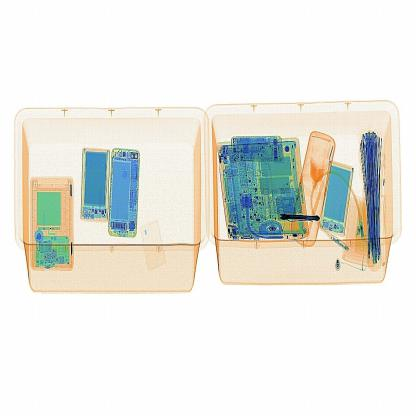knife: (279, 210, 319, 224)
